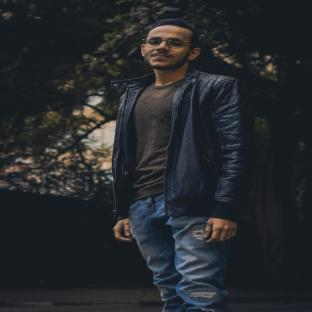Human: (111, 19, 255, 312)
